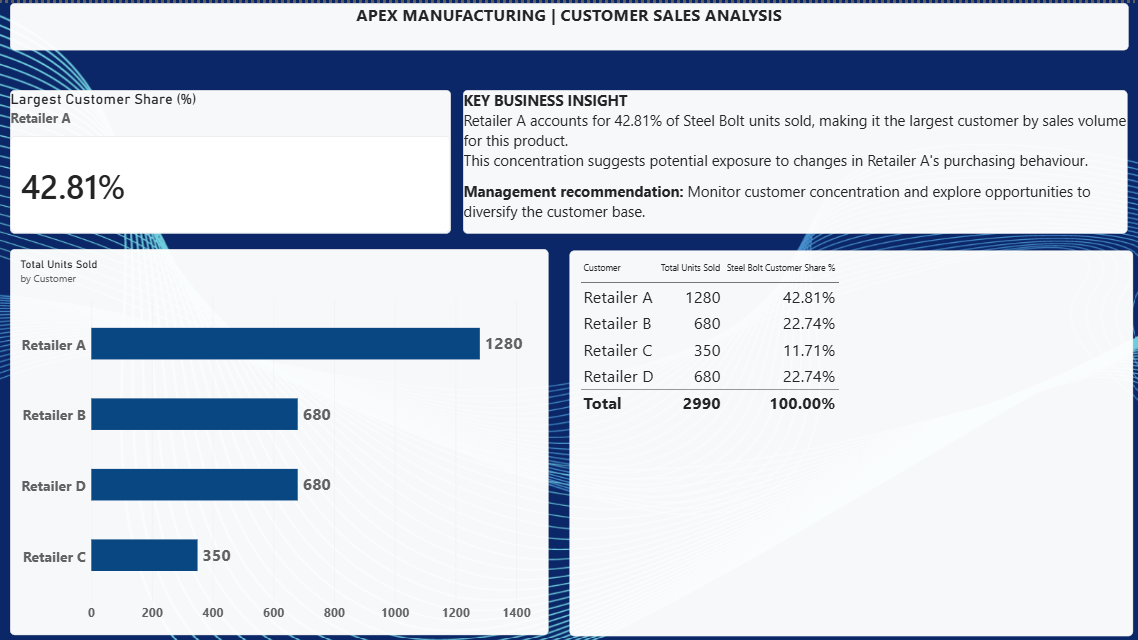

Layout of this report page (visuals, bound fields, positions):
{"tool":"powerbi","page":{"name":"Customer Analysis","canvas":[1920,1080],"ordinal":1},"visuals":[{"type":"clusteredBarChart","fields":{"Category":["Raw_Data.Customer"],"Y":["Raw_Data.Total Units Sold"]},"box":[63.1,398.7,872,625.3],"z":0},{"type":"tableEx","fields":{"Values":["Raw_Data.Customer","Raw_Data.Total Units Sold","Raw_Data.Steel Bolt Customer Share %"]},"box":[969.5,399.7,912.5,624.5],"z":1},{"type":"textbox","box":[62.4,0,1811.4,76.5],"z":2},{"type":"cardVisual","title":"Largest Customer Share (%)","fields":{"Data":["Cleaned_Data.Largest Customer Share %"]},"box":[63.1,140.6,714.3,232.4],"z":3},{"type":"textbox","box":[797.5,140.6,1075.7,232.4],"z":4}]}

Visuals, with their boxes in screenshot pixels (x1, y1, x2, y2), scaled from the page's 1920x1080 canvas onto the 1138x640 screenshot:
clusteredBarChart - Raw_Data.Customer x Raw_Data.Total Units Sold: bbox(37, 236, 554, 607)
tableEx - Raw_Data.Customer x Raw_Data.Total Units Sold: bbox(575, 237, 1115, 607)
textbox: bbox(37, 0, 1111, 45)
"Largest Customer Share (%)" cardVisual: bbox(37, 83, 461, 221)
textbox: bbox(473, 83, 1110, 221)
